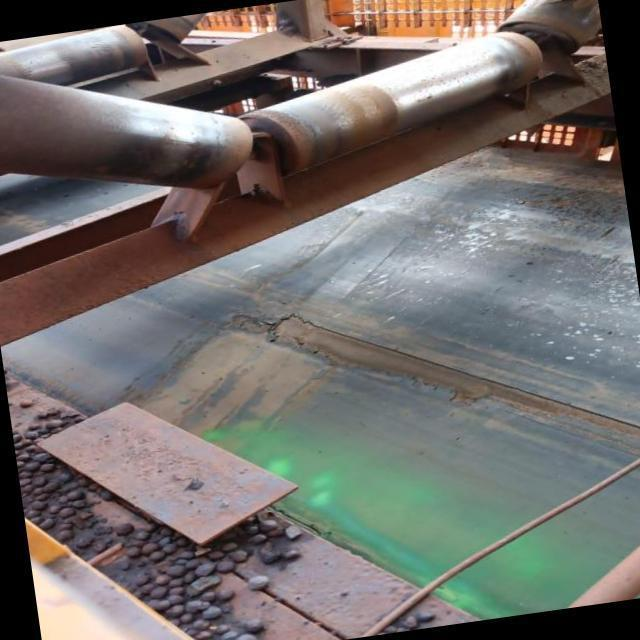Tear: (226, 309, 640, 443)
